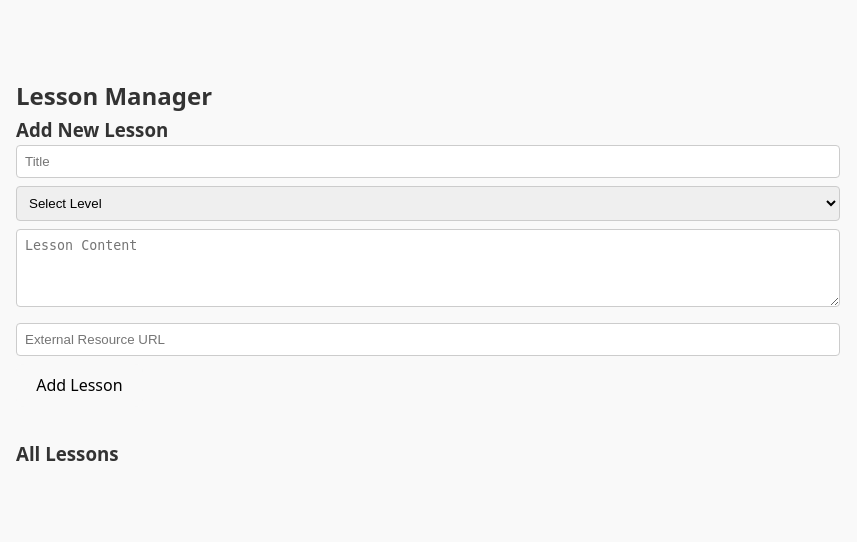
adds a new lesson
This screenshot has width=857, height=542.
Type "Advanced Control" into the field with placeholder "Title" at [428, 162], box [16,145,840,178]
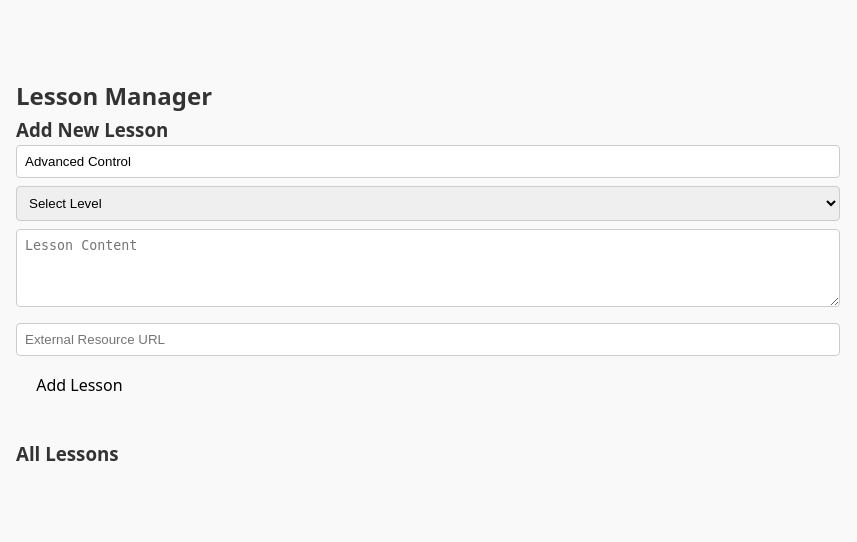
Select "Advanced" in the dropdown at [428, 204], box [16,186,840,221]
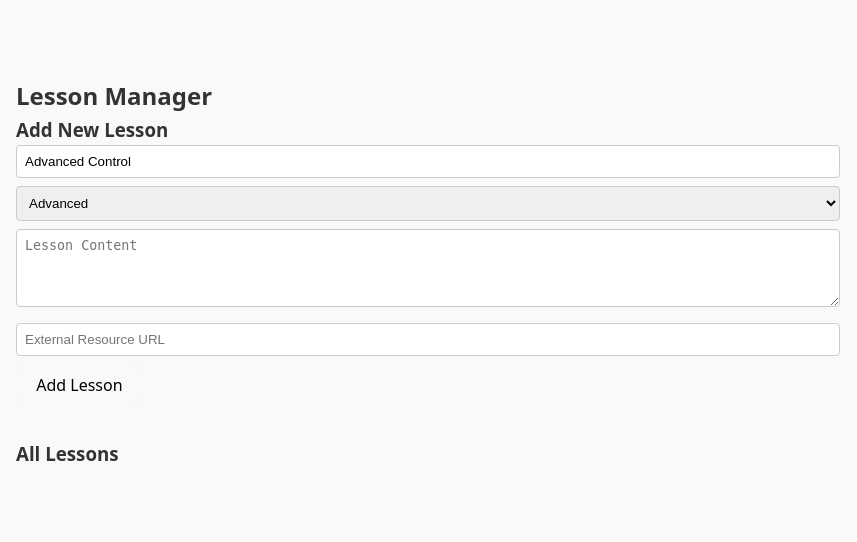
Type "Detailed control systems" into the text box with placeholder "Lesson Content" at [428, 268], box [16,229,840,307]
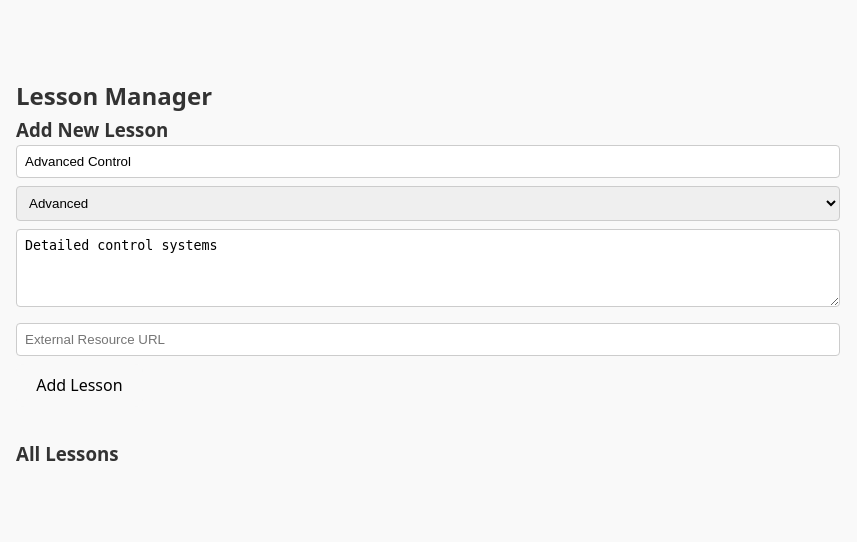
Click the button "Add Lesson" at [79, 386], box [16,364,143,407]
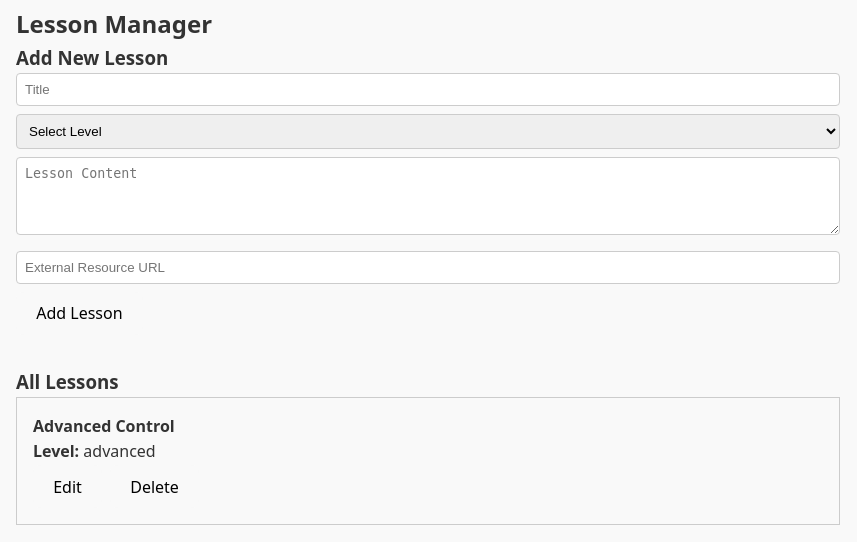
expect the heading "Advanced Control" is shown: met, box [33,415,175,437]
